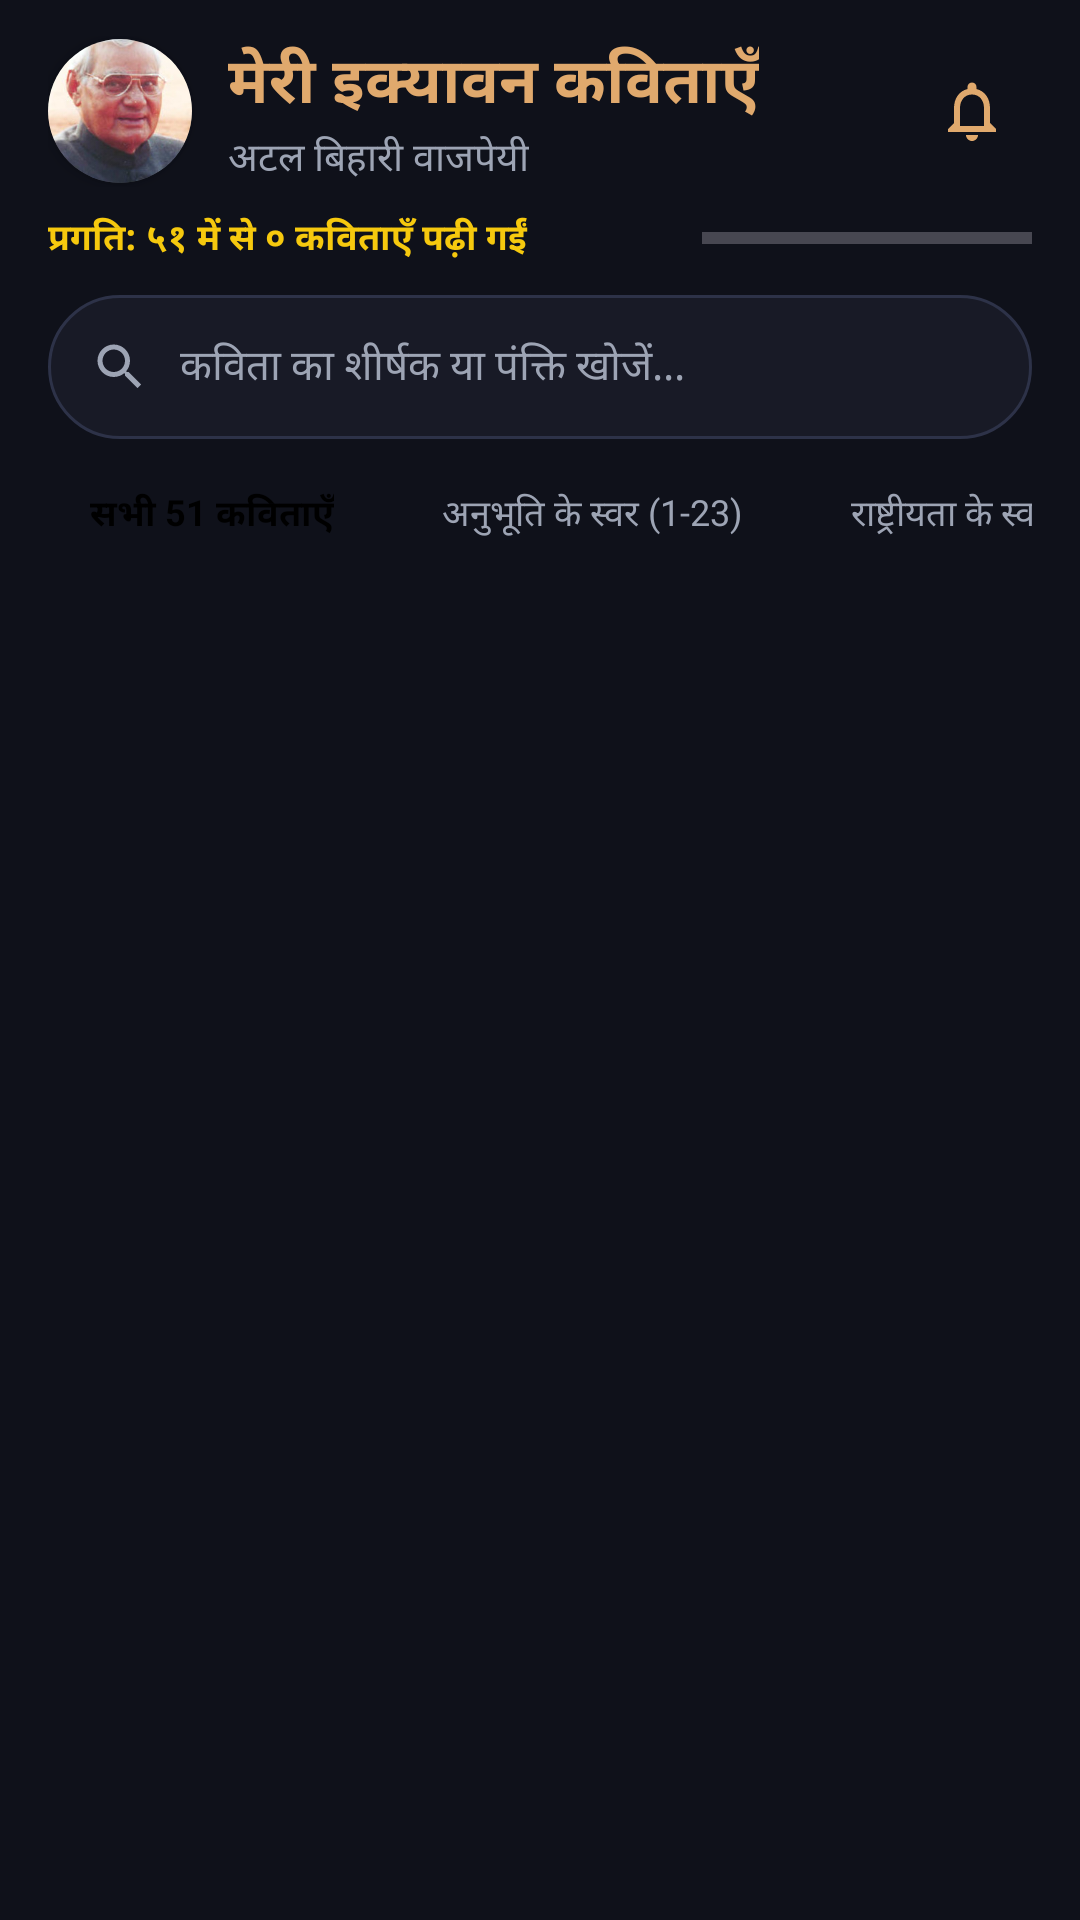

Where to tap for icons on this 1080px x 1920px app screen, as point (x, y):
Search: point (119, 366)
कविता स्मरण: point (972, 111)
